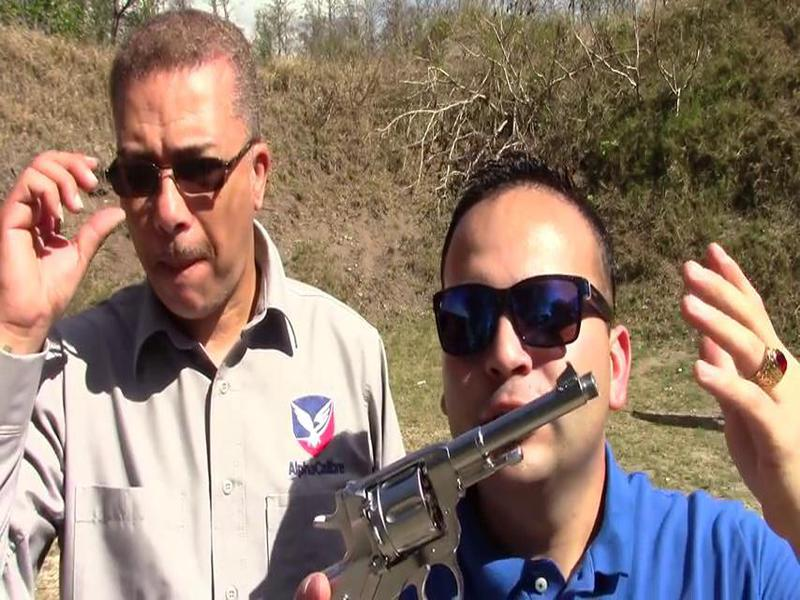Revolver: (307, 353, 631, 600)
